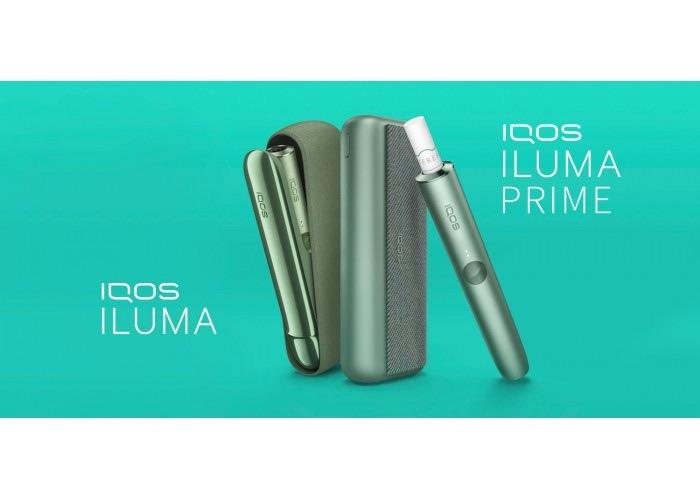iqos: (404, 116, 528, 378)
